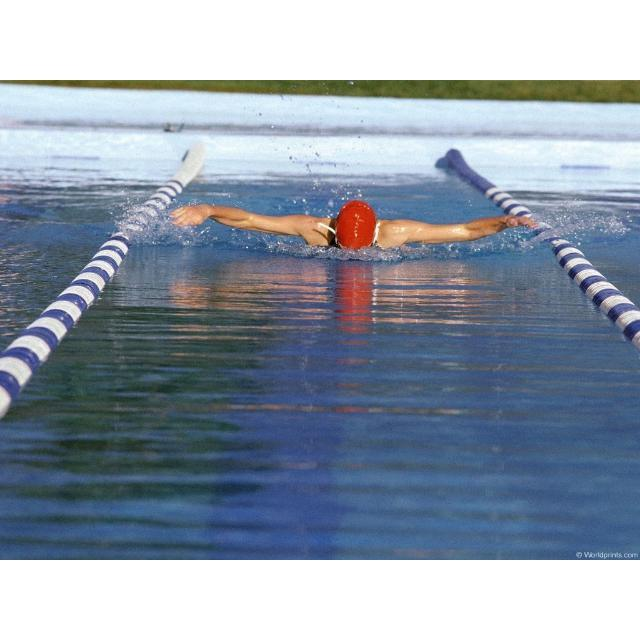human: (175, 197, 538, 255)
